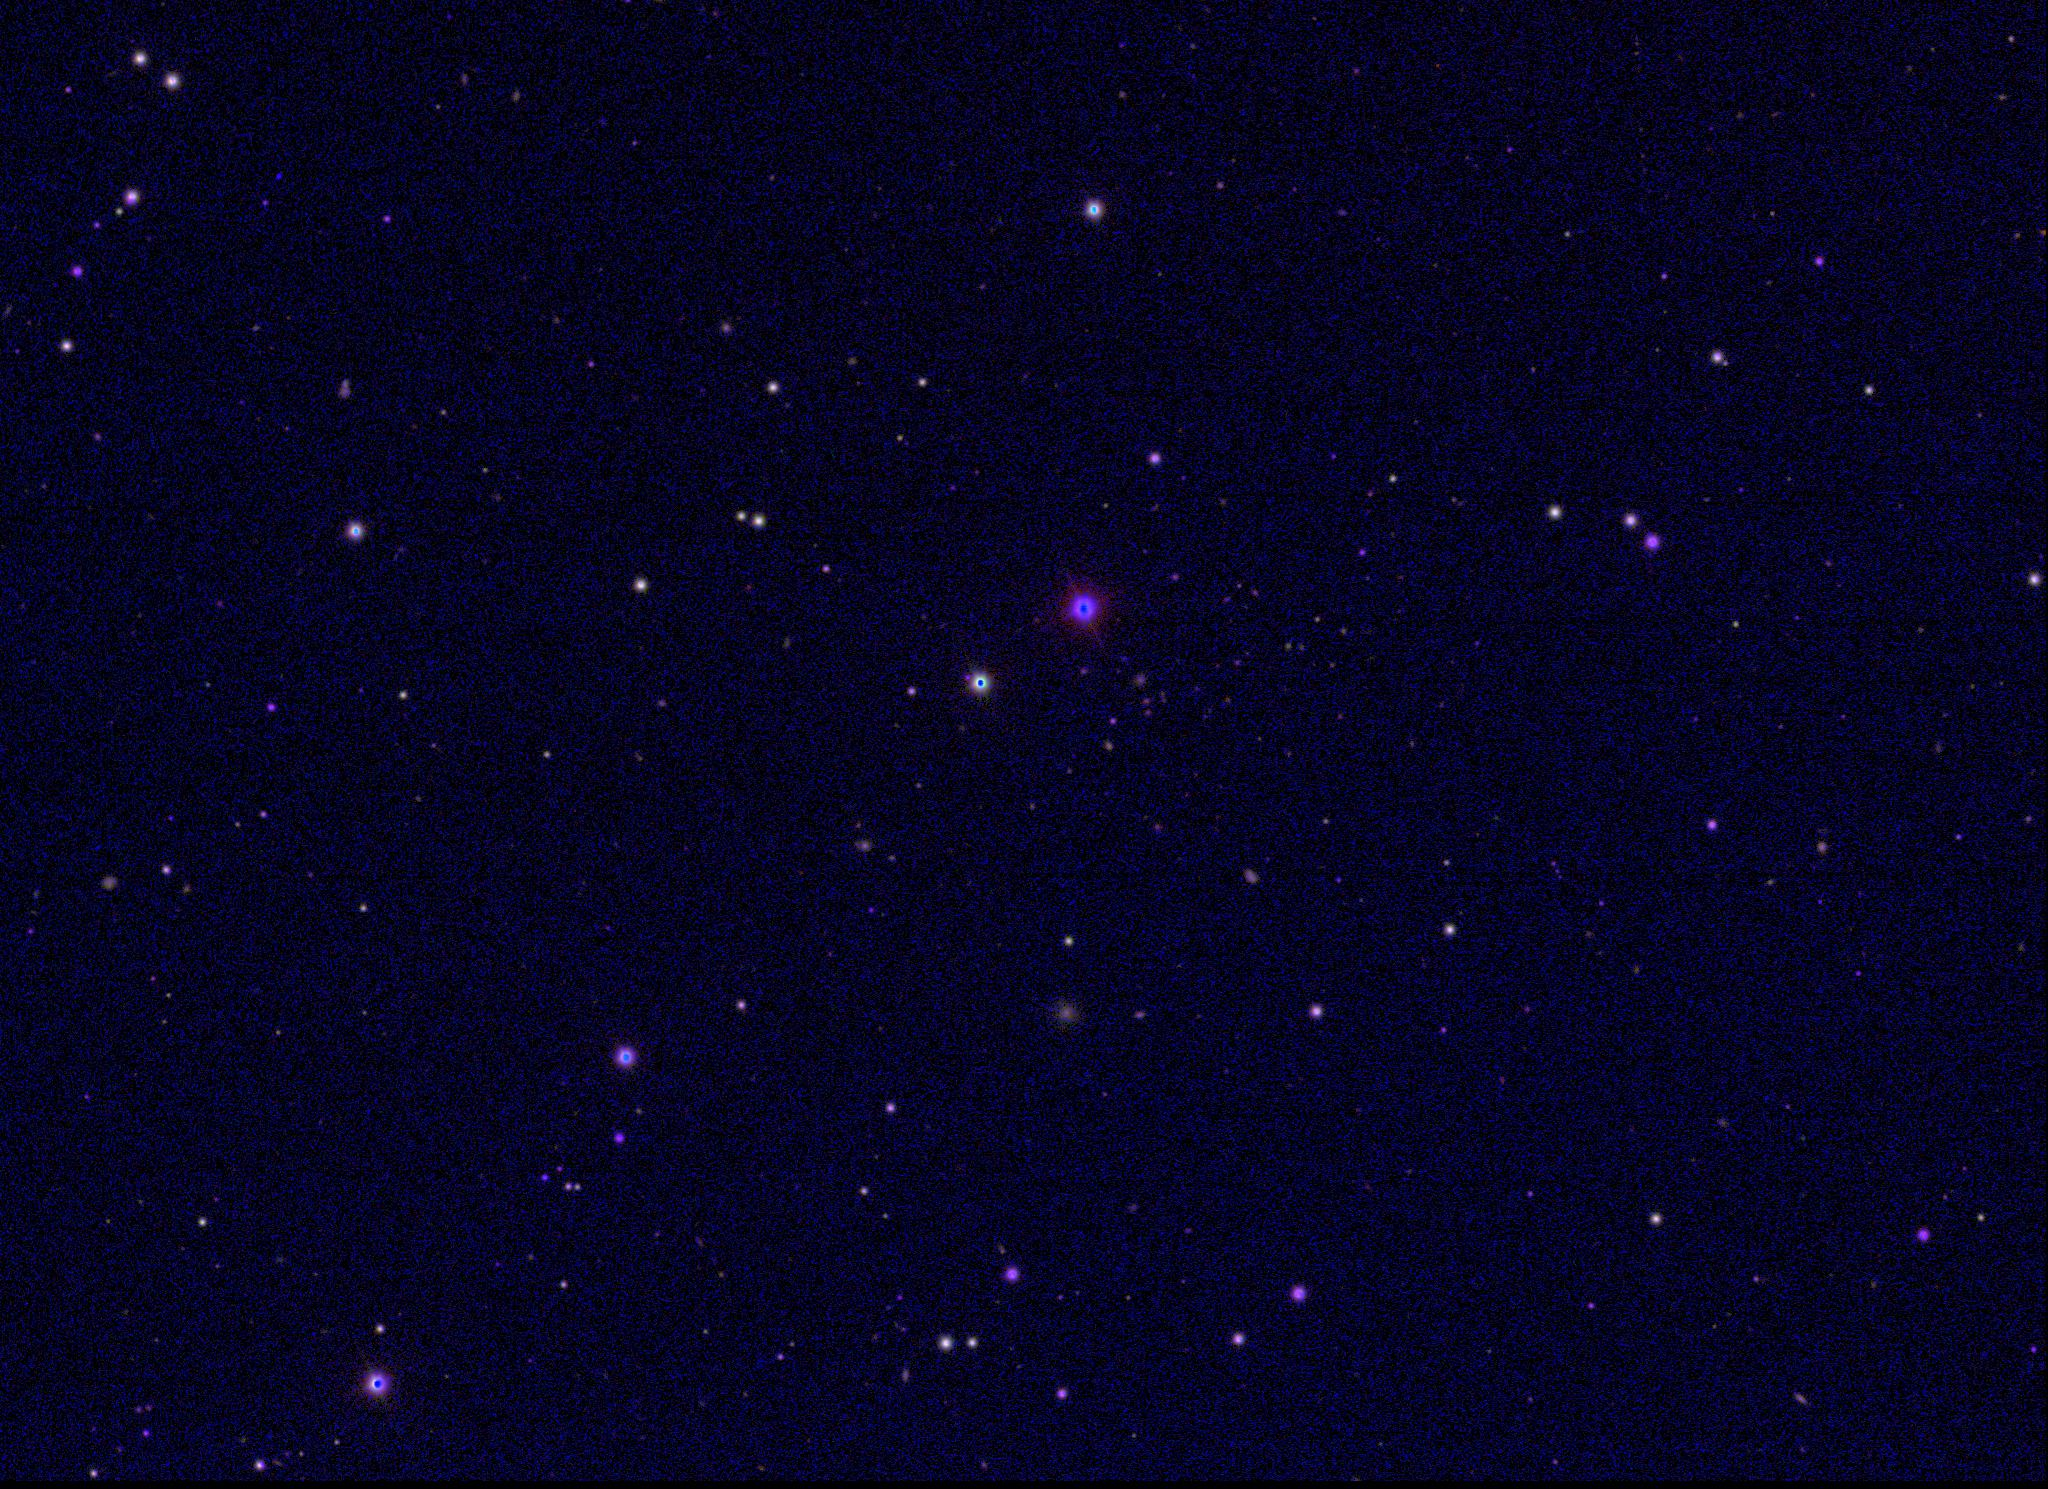L: (272, 169, 286, 183)
